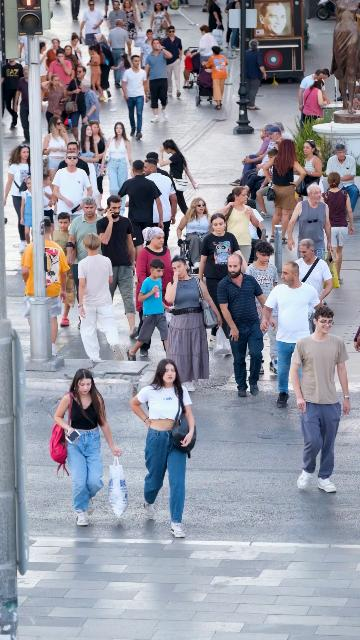person: (130, 358, 197, 539), (289, 306, 351, 493), (53, 369, 123, 527), (260, 261, 323, 409), (164, 255, 223, 392), (216, 254, 268, 398), (21, 217, 71, 354), (95, 195, 139, 340), (78, 233, 124, 362), (199, 213, 242, 347), (135, 226, 173, 355), (244, 239, 278, 378), (263, 139, 307, 245), (127, 258, 170, 362), (214, 185, 263, 269), (118, 160, 165, 246), (321, 172, 355, 286), (286, 183, 332, 266), (99, 122, 135, 216), (143, 157, 178, 252), (238, 125, 282, 200), (157, 139, 199, 216), (66, 196, 101, 285), (3, 144, 32, 249), (50, 212, 76, 327), (52, 150, 93, 219), (176, 197, 213, 272), (228, 124, 272, 187), (295, 239, 335, 305), (120, 55, 150, 141), (326, 143, 360, 214), (144, 39, 173, 122), (297, 68, 328, 125), (43, 116, 69, 182), (243, 39, 267, 110), (254, 148, 278, 218), (161, 26, 183, 98), (205, 46, 228, 110), (67, 65, 86, 142), (246, 195, 267, 264), (42, 74, 68, 128), (81, 0, 112, 44), (302, 79, 331, 125), (301, 139, 323, 195), (47, 48, 76, 89), (86, 45, 106, 101), (57, 142, 90, 175), (20, 175, 34, 245), (197, 25, 220, 63), (134, 29, 155, 70), (78, 124, 95, 174), (150, 2, 172, 39), (42, 168, 56, 225), (64, 45, 82, 80), (46, 37, 65, 70), (107, 0, 127, 30), (206, 0, 224, 32), (146, 151, 167, 176), (183, 50, 194, 89), (353, 308, 360, 352)
